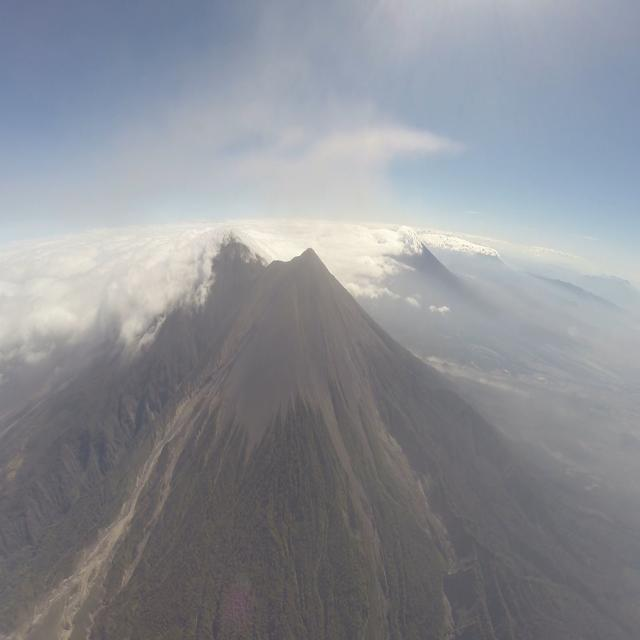Summit: (290, 247, 329, 273)
